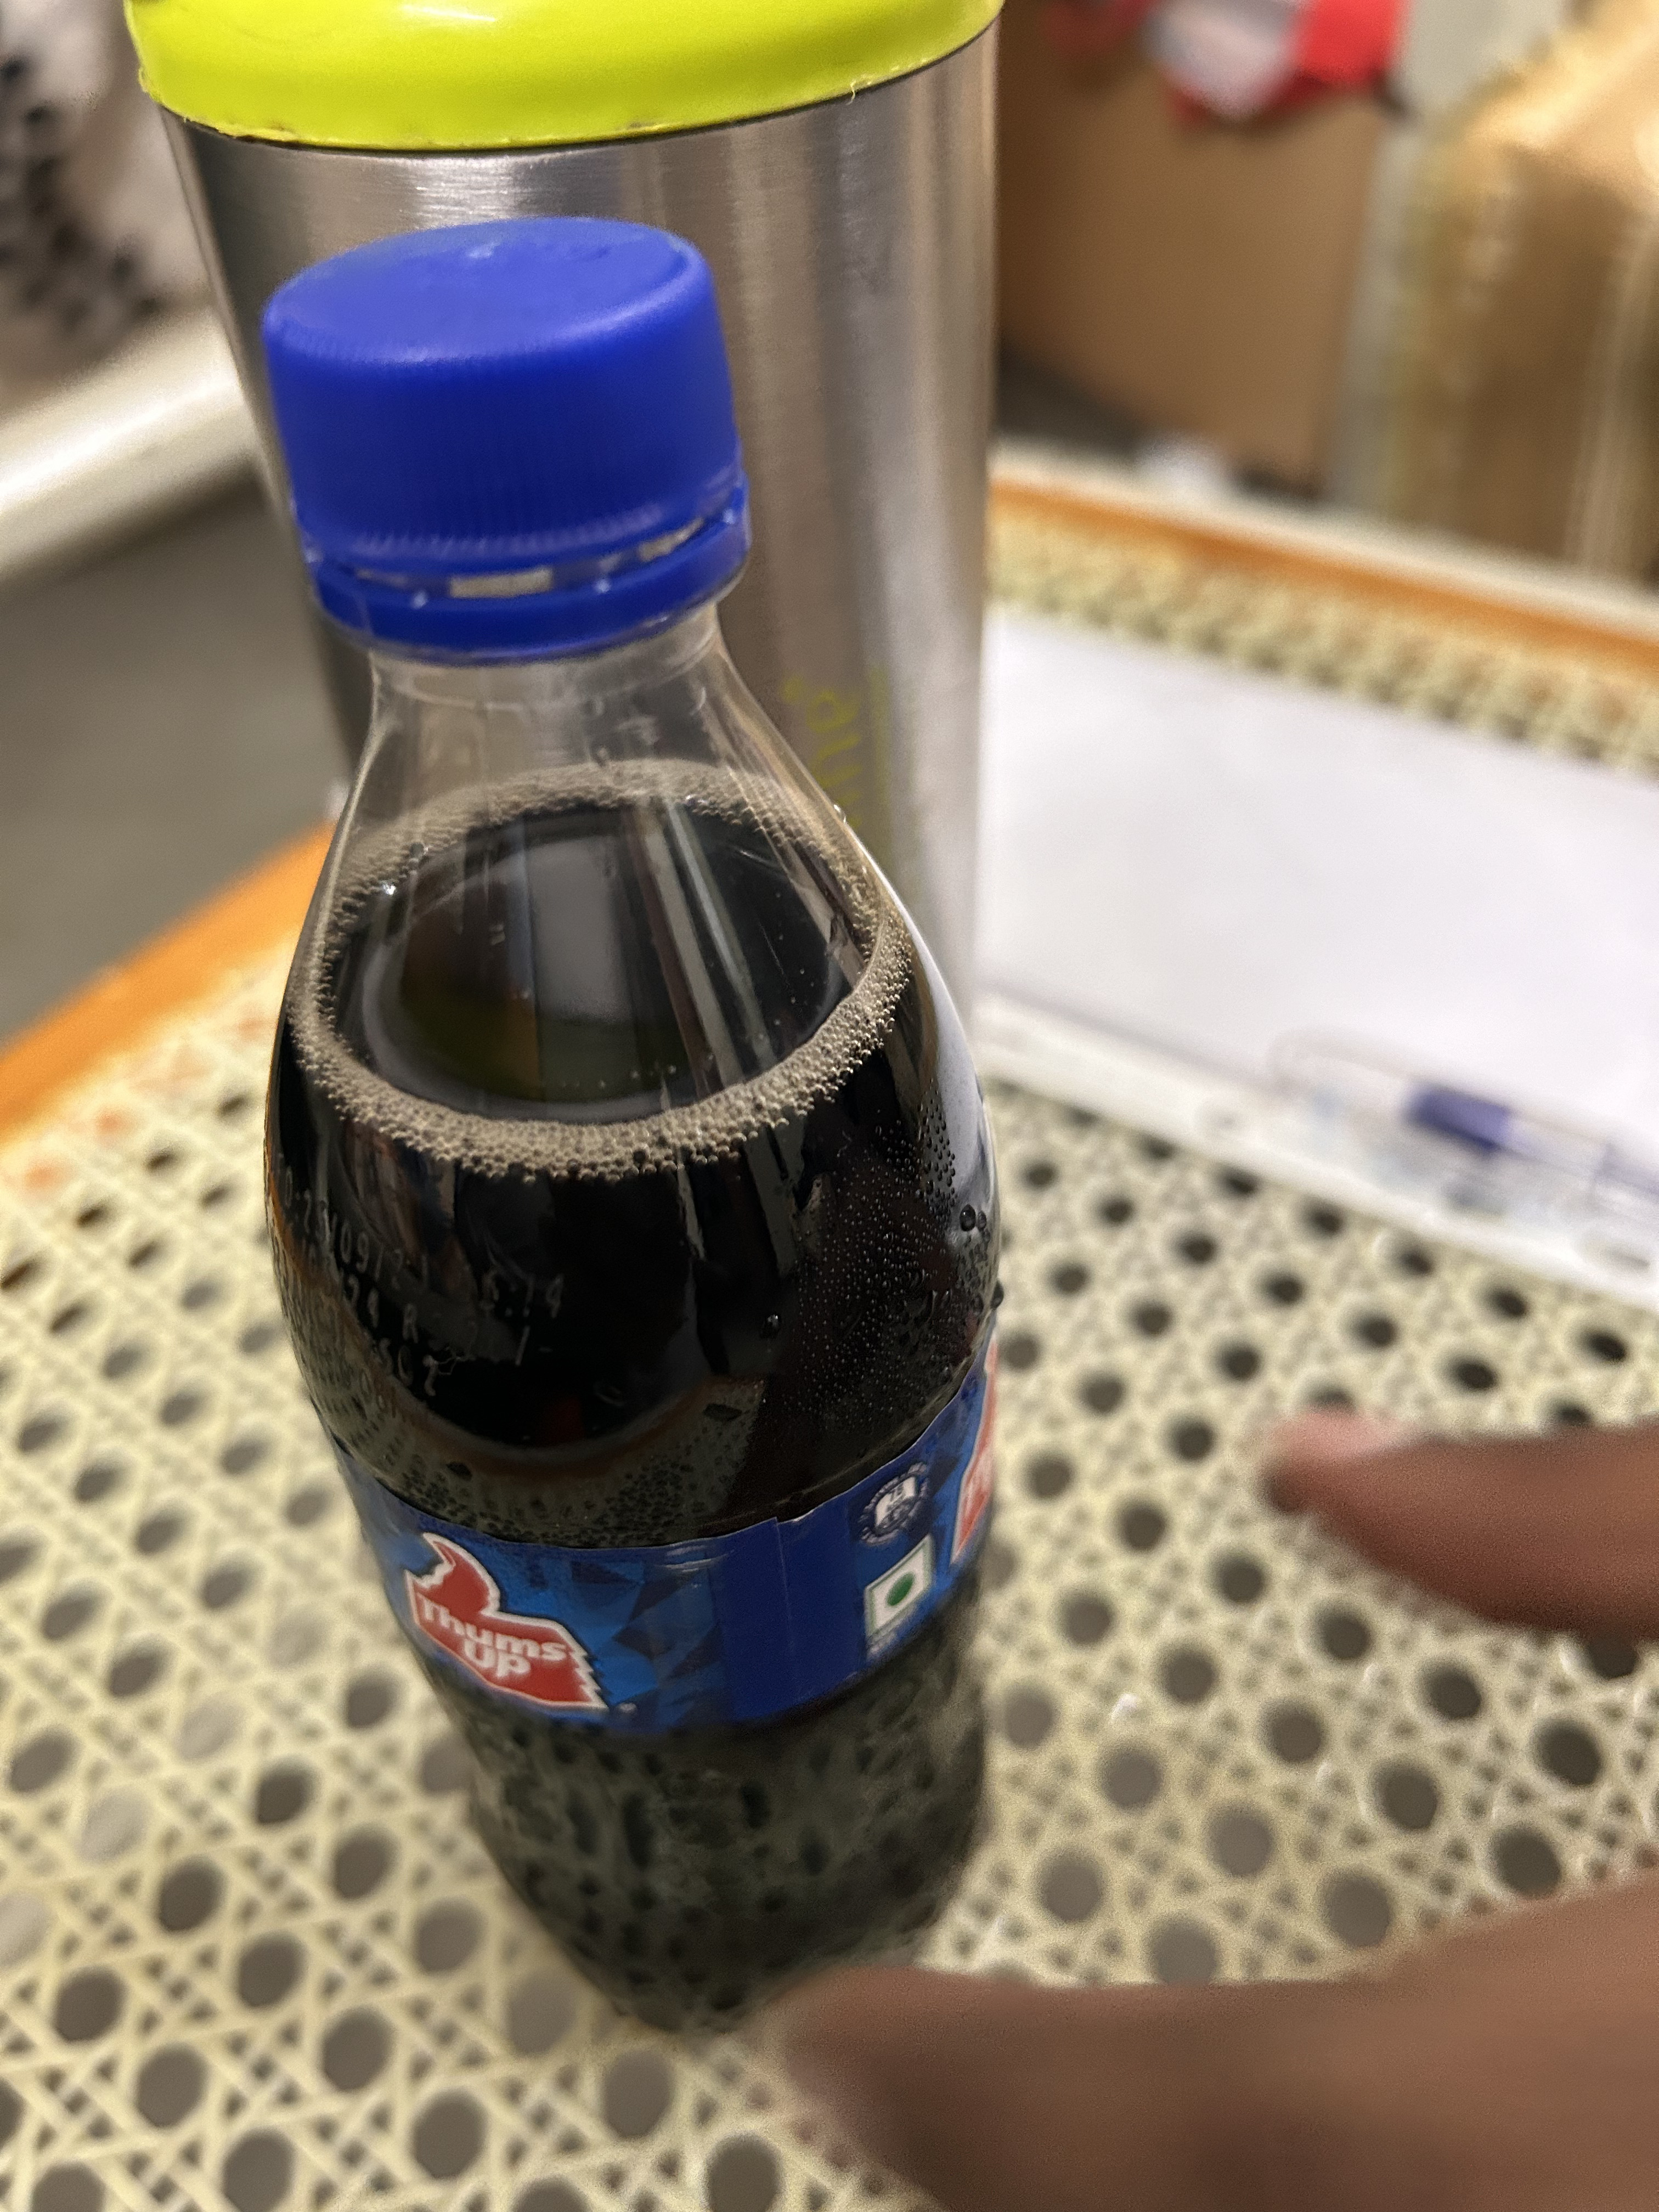unsealed: (220, 230, 831, 772)
